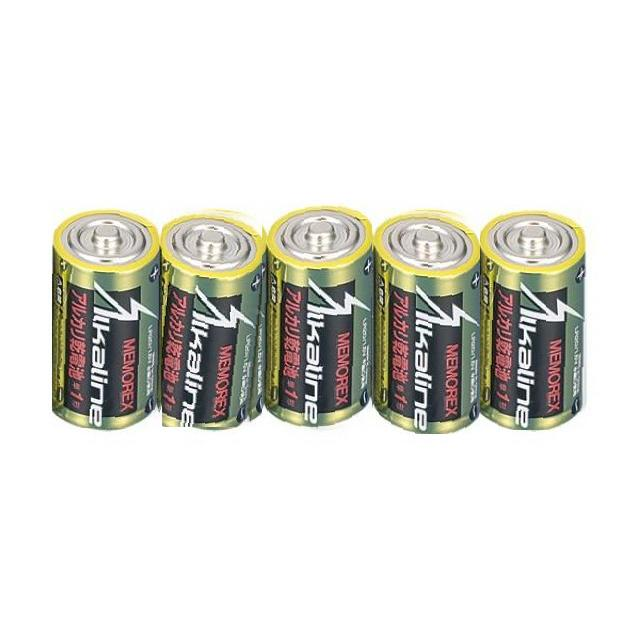battery: (262, 202, 380, 438), (372, 207, 484, 434), (52, 206, 165, 428), (480, 207, 592, 430), (162, 205, 271, 427)
